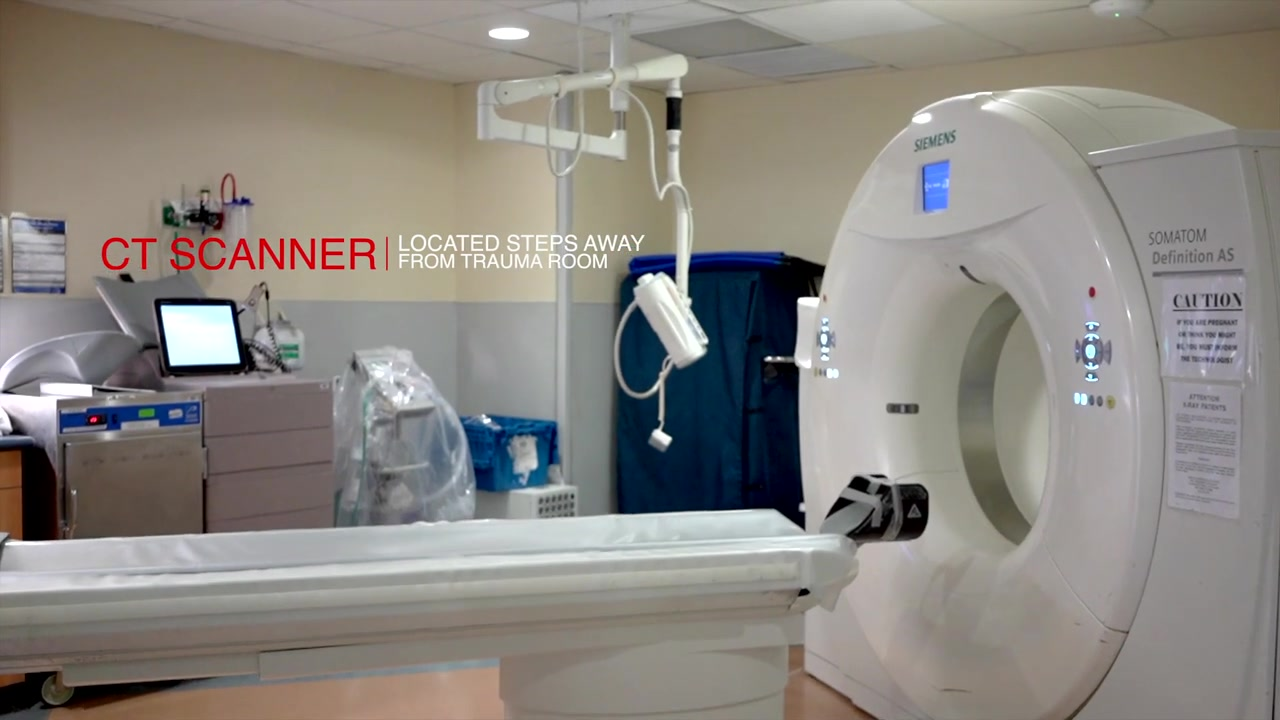bedside_monitor: (153, 298, 246, 373)
drawer: (193, 379, 338, 531)
handle: (68, 486, 82, 534)
waste_bin: (458, 414, 560, 493)
xray_bed: (1, 509, 858, 720)
xray_machine: (796, 86, 1280, 719)
